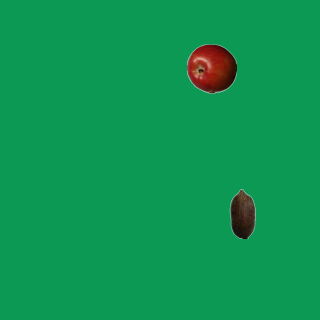Apple Braeburn: (186, 43, 236, 93)
Nut Pecan: (217, 188, 267, 238)
